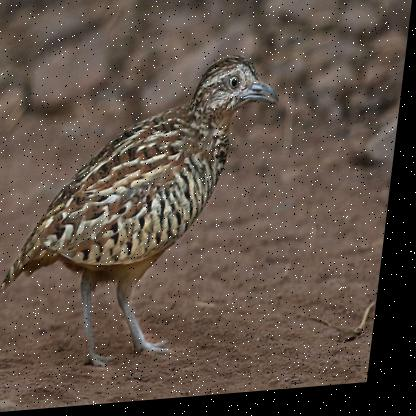Burung: (0, 55, 287, 376)
